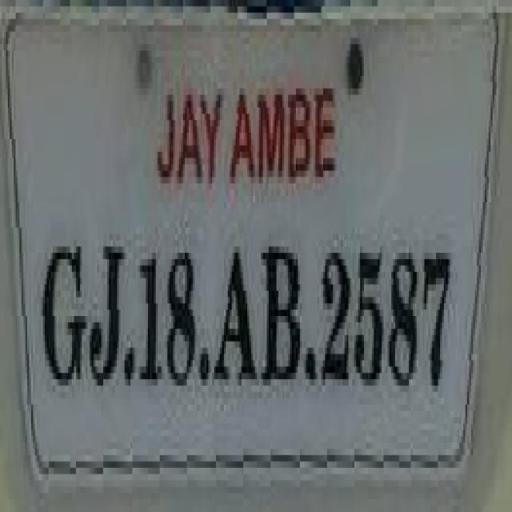number plate: (6, 50, 479, 474)
